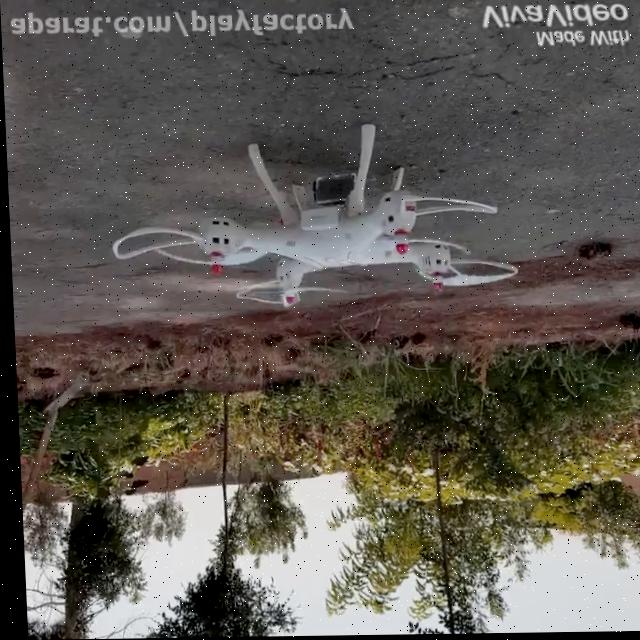drone: (100, 128, 518, 309)
